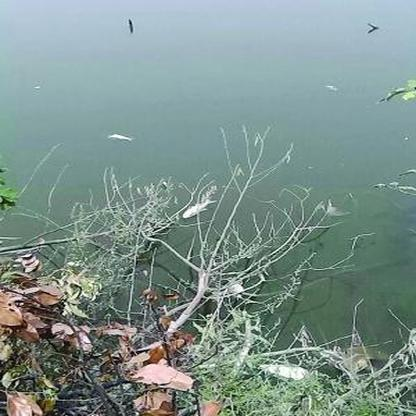deceased fish: (178, 192, 220, 219)
